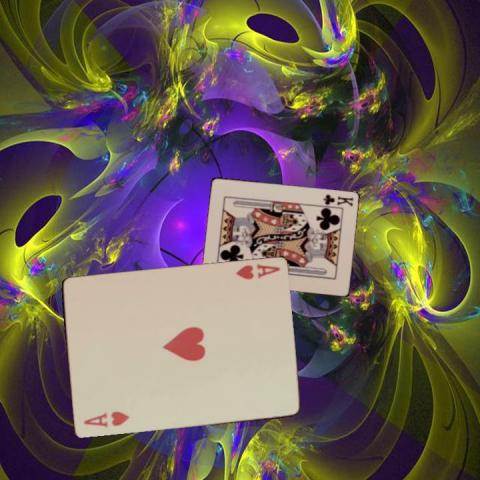Ah: (80, 409, 131, 429), (233, 261, 281, 281)
Kc: (320, 192, 354, 208)
